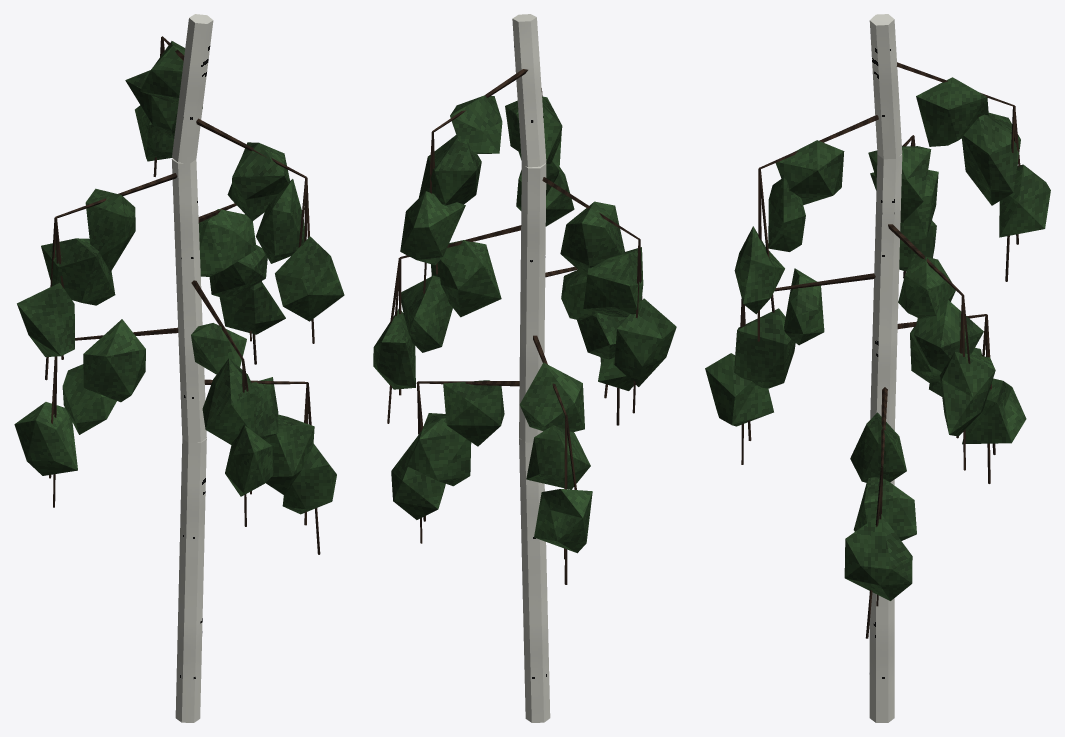
Rendered from birch_tree.glb.
3 renders of one model, left to right at view 1: azimuth 30°, elevation 25°; view 2: azimuth 150°, elevation 25°; view 3: azimuth 270°, elevation 25°, orthographic.
Parts seen in each view (by area): view 1: birch_tree; view 2: birch_tree; view 3: birch_tree.
Boxes of the visible parts, <box> form: birch_tree: <box>14,14,344,722</box>; birch_tree: <box>373,14,676,722</box>; birch_tree: <box>705,14,1050,722</box>.
Size of what is drawn, in the model's own units: 2.23 by 5.01 by 2.22.
3 materials, 3 textured.
